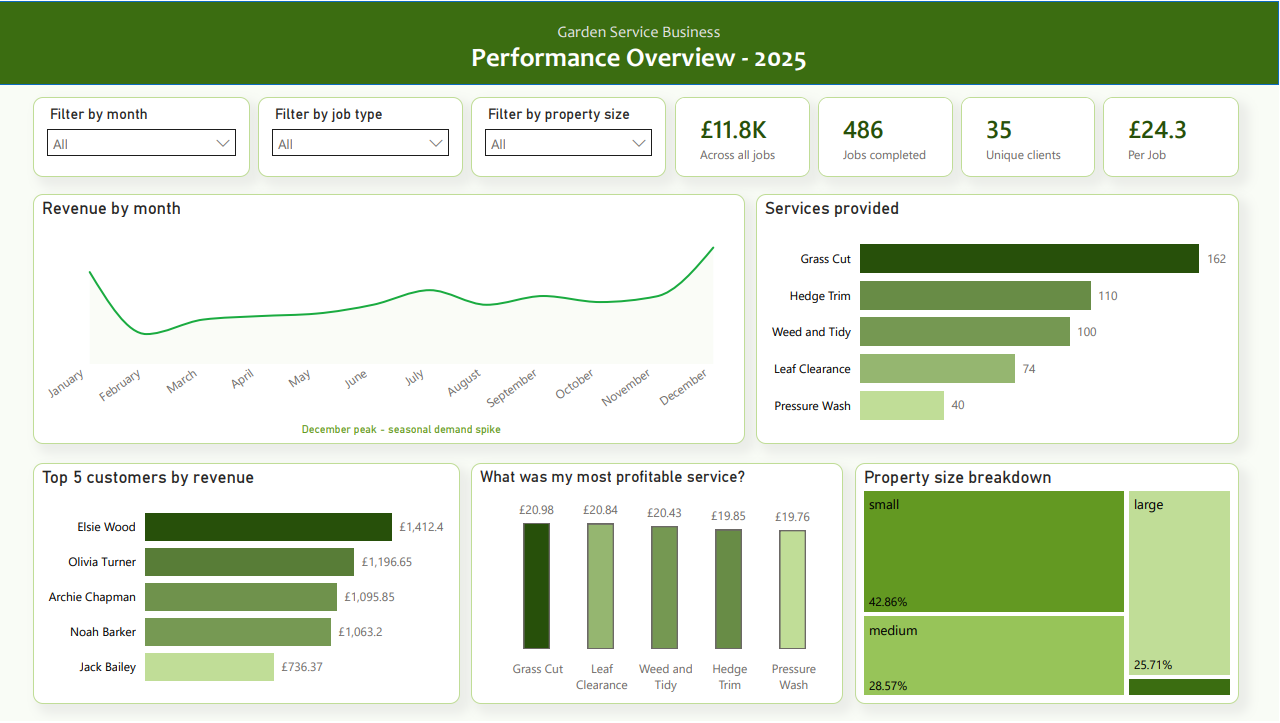

This screenshot's page, from the dashboard's own definition file:
{"tool":"powerbi","page":{"name":"Gardening DashBoard","canvas":[1280,720],"ordinal":0},"visuals":[{"type":"shape","box":[0,0,1280,83.6],"z":0},{"type":"textbox","box":[440,16,400,64],"z":1000},{"type":"slicer","fields":{"Values":["garden_jobs_clean.job_date.Variation.Date Hierarchy.Month"]},"box":[34.5,96.1,216.7,79.8],"z":2000},{"type":"slicer","fields":{"Values":["garden_jobs_clean.job_type"]},"box":[259.3,96.1,204.9,79.8],"z":3000},{"type":"slicer","fields":{"Values":["garden_customers_clean.property_size"]},"box":[472.4,96.1,195,79.8],"z":4000},{"type":"cardVisual","fields":{"Data":["Sum(garden_jobs_clean.price_gbp)"]},"box":[675.6,96.1,135.1,79.8],"z":5000},{"type":"cardVisual","fields":{"Data":["CountNonNull(garden_jobs_clean.job_type)"]},"box":[818.8,96.1,135.1,79.8],"z":6000},{"type":"cardVisual","fields":{"Data":["CountNonNull(garden_customers_clean.customer_name)"]},"box":[962.1,96.1,134.2,79.8],"z":7000},{"type":"cardVisual","fields":{"Data":["Avg(garden_jobs_clean.price_gbp)"]},"box":[1104.5,96.1,135.1,79.8],"z":8000},{"type":"stackedAreaChart","title":"Revenue by month","fields":{"Category":["garden_jobs_clean.job_date.Variation.Date Hierarchy.Month"],"Y":["Sum(garden_jobs_clean.price_gbp)"]},"box":[34.5,193.1,711.8,250.3],"z":9000},{"type":"clusteredBarChart","title":"Services provided","fields":{"Category":["garden_jobs_clean.job_type"],"Y":["CountNonNull(garden_jobs_clean.job_id)"]},"box":[757.2,193.1,482.4,250.3],"z":10000},{"type":"clusteredBarChart","title":"Top 5 customers by revenue","fields":{"Category":["garden_customers_clean.customer_name"],"Y":["Sum(garden_jobs_clean.price_gbp)"]},"box":[34.5,462.5,426.2,240.3],"z":11000},{"type":"treemap","title":"Property size breakdown","fields":{"Group":["garden_customers_clean.property_size"],"Values":["CountNonNull(garden_customers_clean.customer_name)"]},"box":[856,462.5,383.6,240.3],"z":12000},{"type":"clusteredColumnChart","title":"What was my most profitable service?","fields":{"Category":["garden_jobs_clean.job_type"],"Y":["garden_jobs_clean.Revenue Per Hour"]},"box":[472.4,462.5,371.8,240.3],"z":13000}]}

Visuals, with their boxes in screenshot pixels (x1, y1, x2, y2), scaled from the page's 1280x720 canvas onto the 1280x723 screenshot:
shape: (0, 0, 1279, 84)
textbox: (440, 16, 840, 80)
slicer - garden_jobs_clean.job_date.Variation.Date Hierarchy.Month: (34, 97, 251, 177)
slicer - garden_jobs_clean.job_type: (259, 97, 464, 177)
slicer - garden_customers_clean.property_size: (472, 97, 667, 177)
cardVisual - Sum(garden_jobs_clean.price_gbp): (676, 97, 811, 177)
cardVisual - CountNonNull(garden_jobs_clean.job_type): (819, 97, 954, 177)
cardVisual - CountNonNull(garden_customers_clean.customer_name): (962, 97, 1096, 177)
cardVisual - Avg(garden_jobs_clean.price_gbp): (1104, 97, 1240, 177)
"Revenue by month" stackedAreaChart: (34, 194, 746, 445)
"Services provided" clusteredBarChart: (757, 194, 1240, 445)
"Top 5 customers by revenue" clusteredBarChart: (34, 464, 461, 706)
"Property size breakdown" treemap: (856, 464, 1240, 706)
"What was my most profitable service?" clusteredColumnChart: (472, 464, 844, 706)
